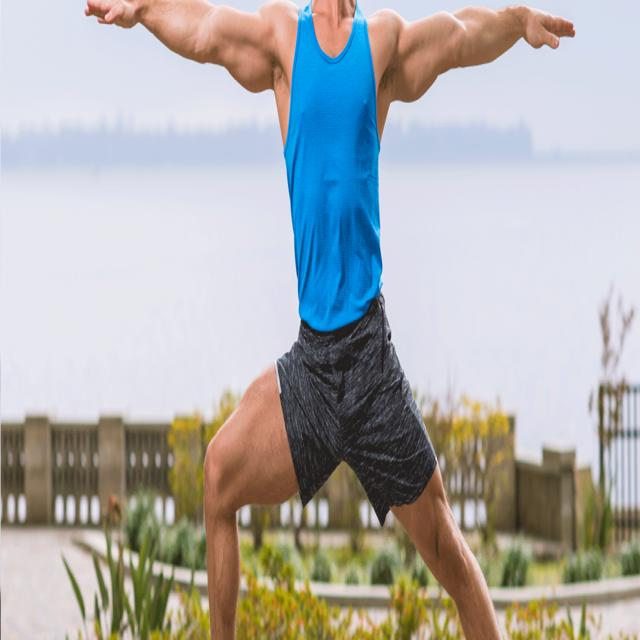Warrior_II: (79, 1, 576, 640)
